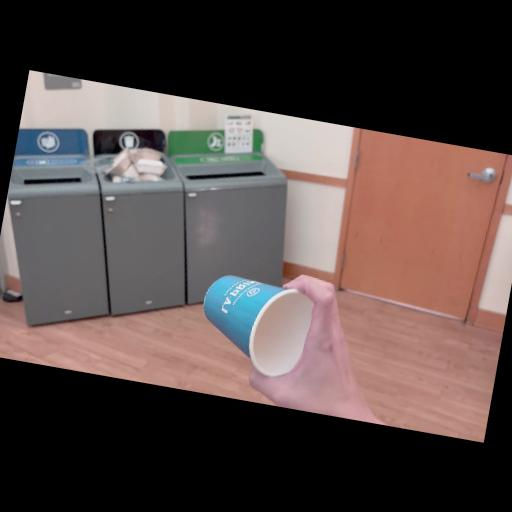lp_paper_cup: (186, 260, 336, 394)
